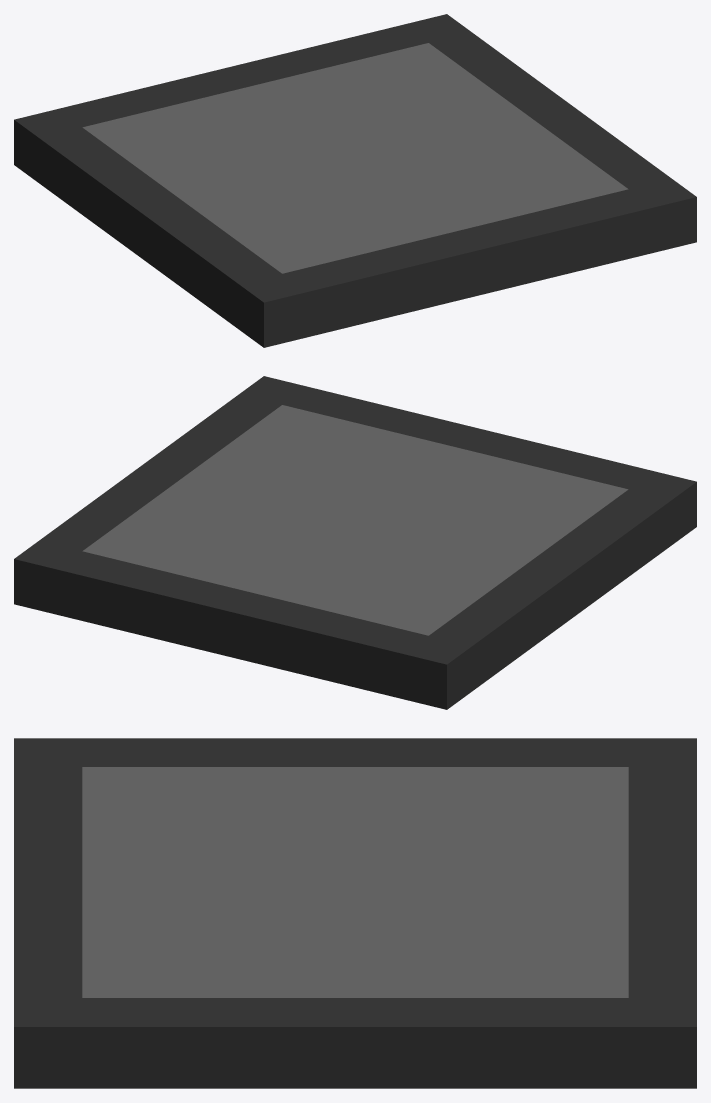
The model's file is FoundationPlatform.fbx.
3 views of the same model, one above another, from view 1: azimuth 30°, elevation 25°; view 2: azimuth 150°, elevation 25°; view 3: azimuth 270°, elevation 25° (orthographic). The views are drawn at different scales.
Visible parts, largest first — view 1: Plane.001; view 2: Plane.001; view 3: Plane.001.
Boxes of the visible parts, bbox=[...] form: Plane.001: bbox=[14, 14, 696, 347]; Plane.001: bbox=[14, 376, 696, 709]; Plane.001: bbox=[14, 738, 696, 1088].
Bounding box in the file's own units: 1000 × 100 × 1000.
